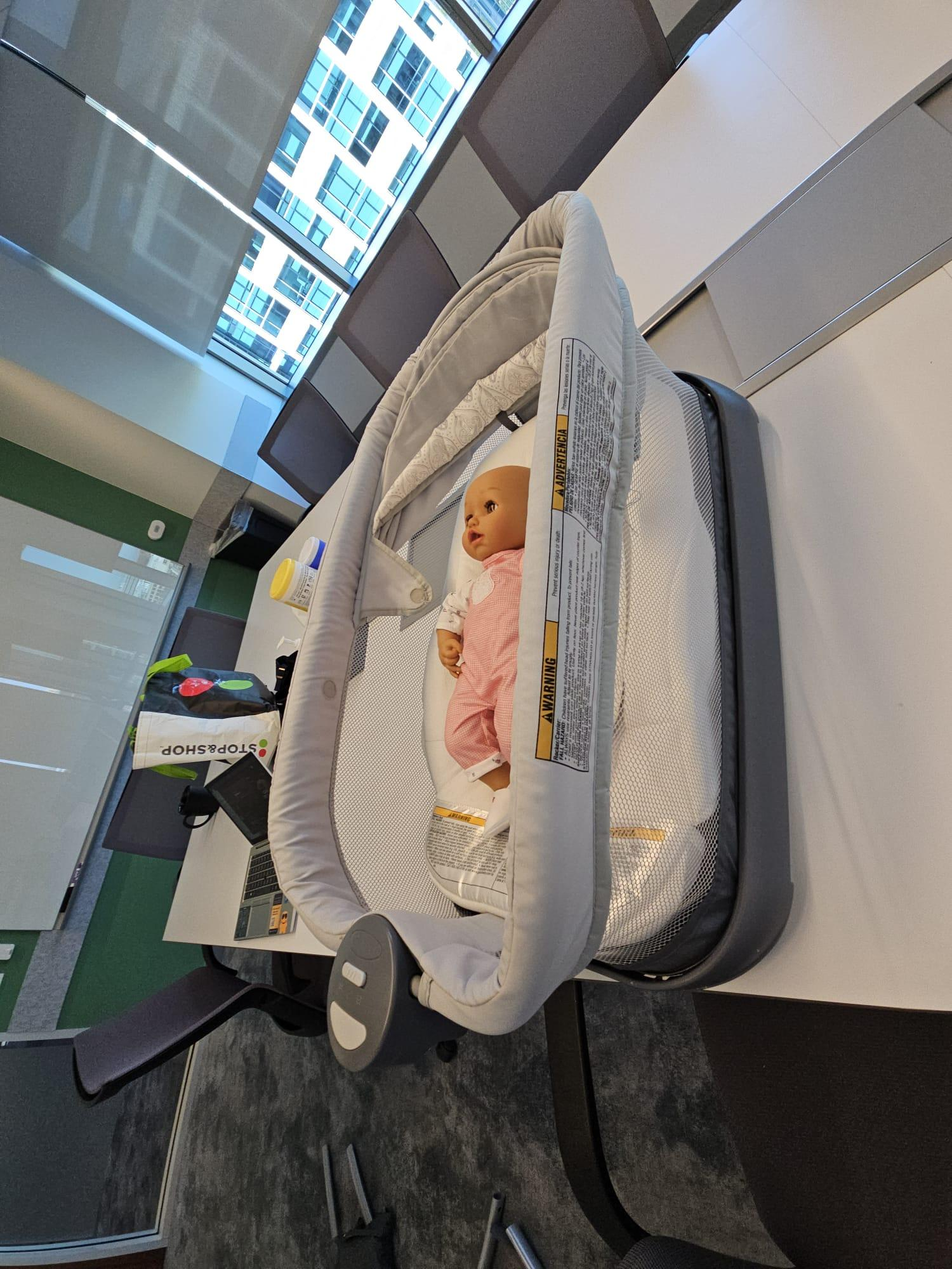baby: (422, 454, 559, 816)
